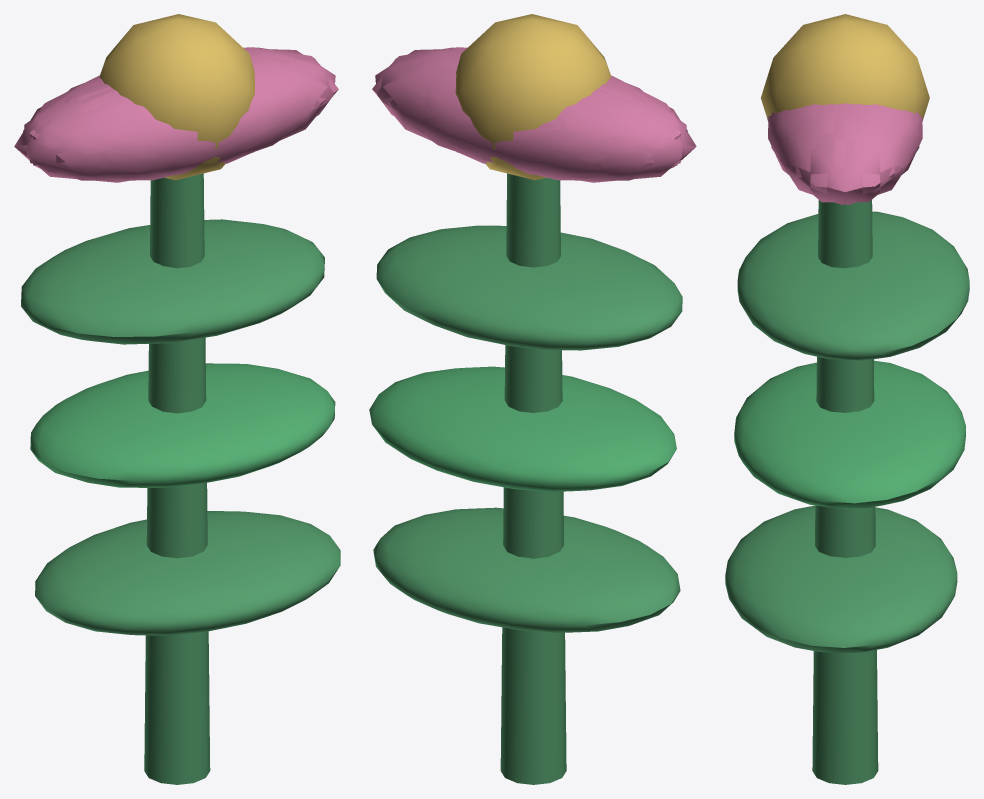
The model's file is morus-indica.glb.
3 views of the same model, side by side, from view 1: azimuth 30°, elevation 25°; view 2: azimuth 150°, elevation 25°; view 3: azimuth 270°, elevation 25° (orthographic).
Visible parts, largest first — view 1: leaf2, leaf0, leaf1, stem, center, petal6, petal2, petal1, petal5, petal7, petal0; view 2: leaf2, leaf1, leaf0, stem, center, petal3, petal7, petal8, petal4, petal2, petal0; view 3: leaf2, leaf1, leaf0, stem, center, petal0, petal5, petal4, petal8, petal1.
Part boxes in pixels (box(x1,y1,x2,y2)): leaf2: box(21, 219, 324, 344); leaf0: box(35, 511, 340, 635); leaf1: box(30, 363, 335, 487); stem: box(144, 173, 210, 784); center: box(99, 14, 254, 180); petal6: box(33, 89, 240, 180); petal2: box(24, 83, 184, 182); petal1: box(105, 67, 320, 178); petal5: box(172, 56, 338, 170); petal7: box(14, 78, 119, 173); petal0: box(248, 49, 335, 152); leaf2: box(376, 225, 682, 350); leaf1: box(369, 366, 676, 491); leaf0: box(373, 507, 680, 632); stem: box(500, 173, 566, 784); center: box(455, 14, 611, 180); petal3: box(469, 89, 677, 180); petal7: box(526, 83, 686, 182); petal8: box(390, 67, 604, 178); petal4: box(372, 56, 538, 170); petal2: box(591, 78, 696, 173); petal0: box(375, 49, 462, 152); leaf2: box(737, 211, 969, 360); leaf1: box(734, 360, 965, 508); leaf0: box(725, 505, 957, 653); stem: box(812, 200, 878, 784); center: box(761, 14, 929, 118); petal0: box(783, 103, 907, 202); petal5: box(771, 104, 857, 204); petal4: box(832, 104, 919, 204); petal8: box(869, 104, 922, 175); petal1: box(768, 104, 820, 175).
Bounding box in the file's own units: 0.1541 × 0.352 × 0.1039.
